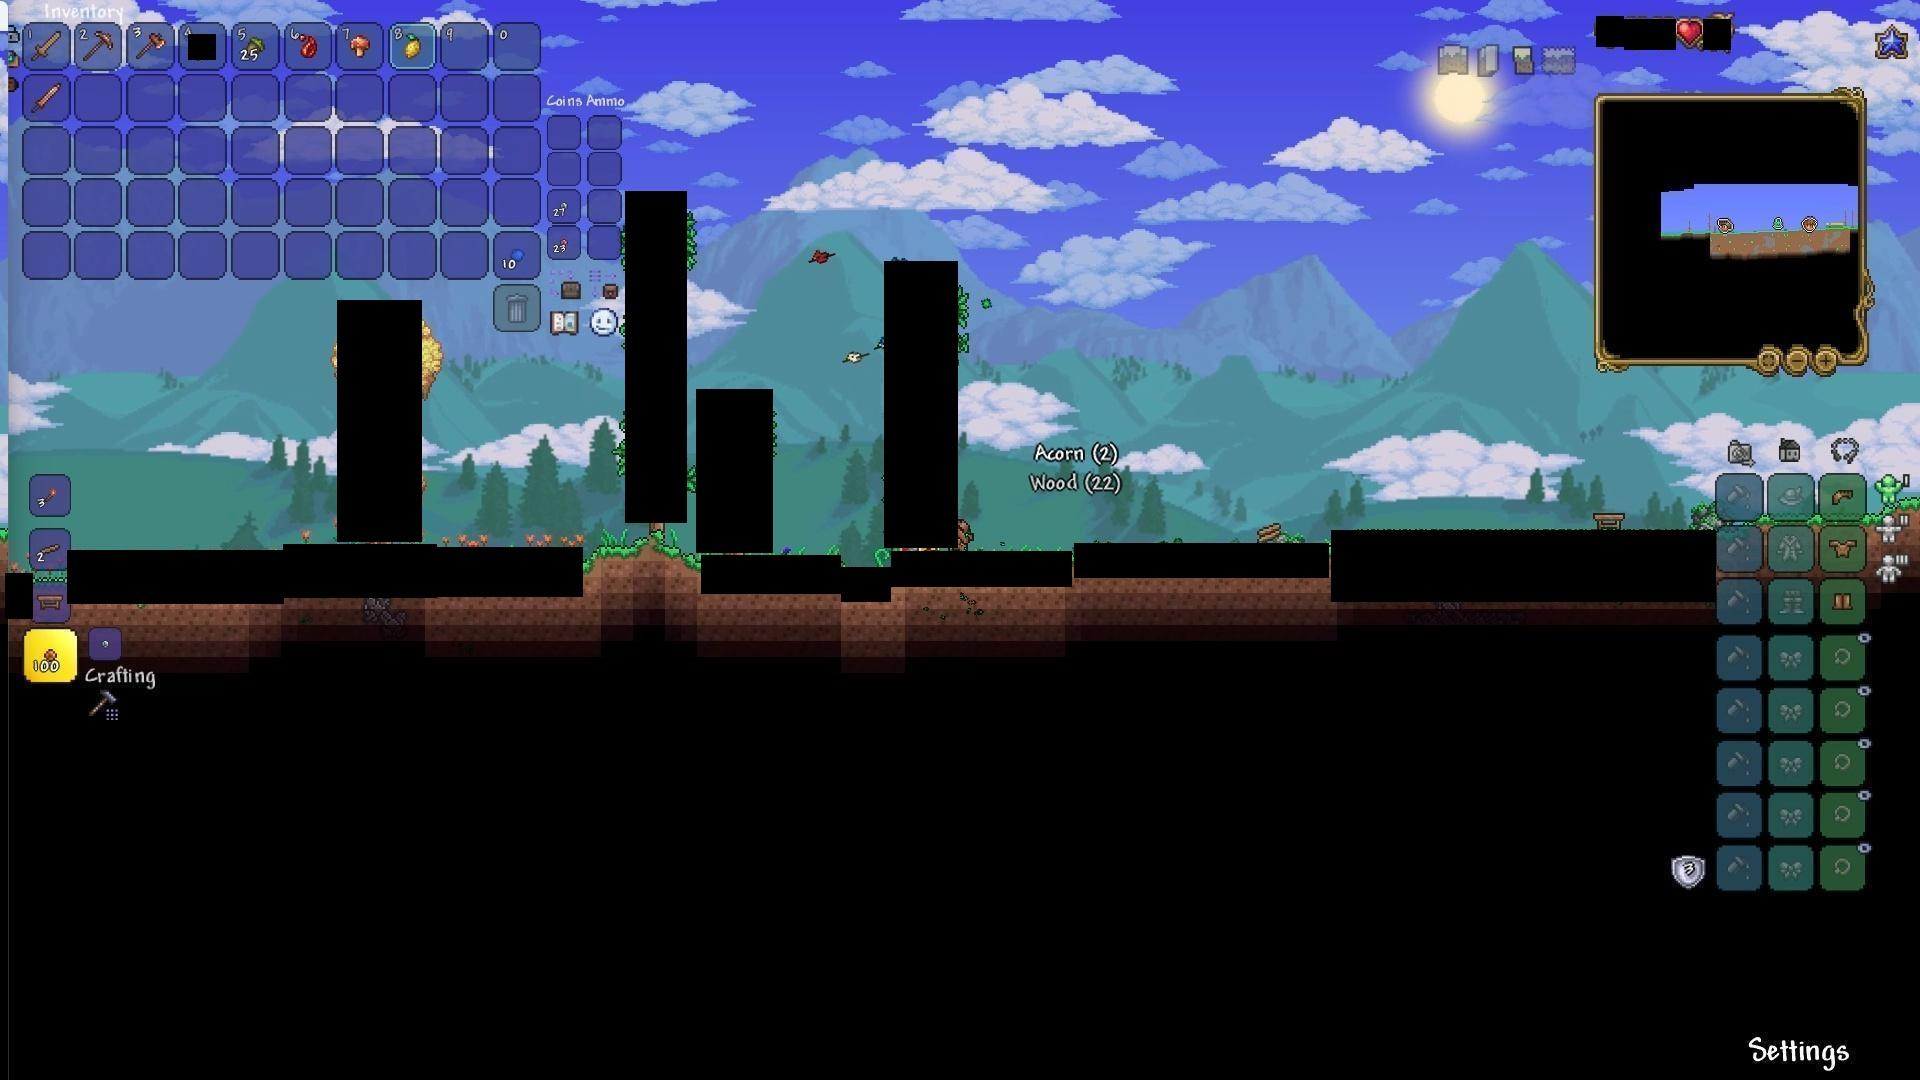breastplate: (1830, 537, 1859, 559)
dirt: (585, 526, 691, 580)
heart: (1677, 18, 1704, 49)
helmet: (1828, 483, 1859, 510)
legs: (1832, 588, 1855, 616)
wood: (1255, 521, 1283, 546)
workbench: (1593, 510, 1630, 535), (32, 591, 66, 616)
